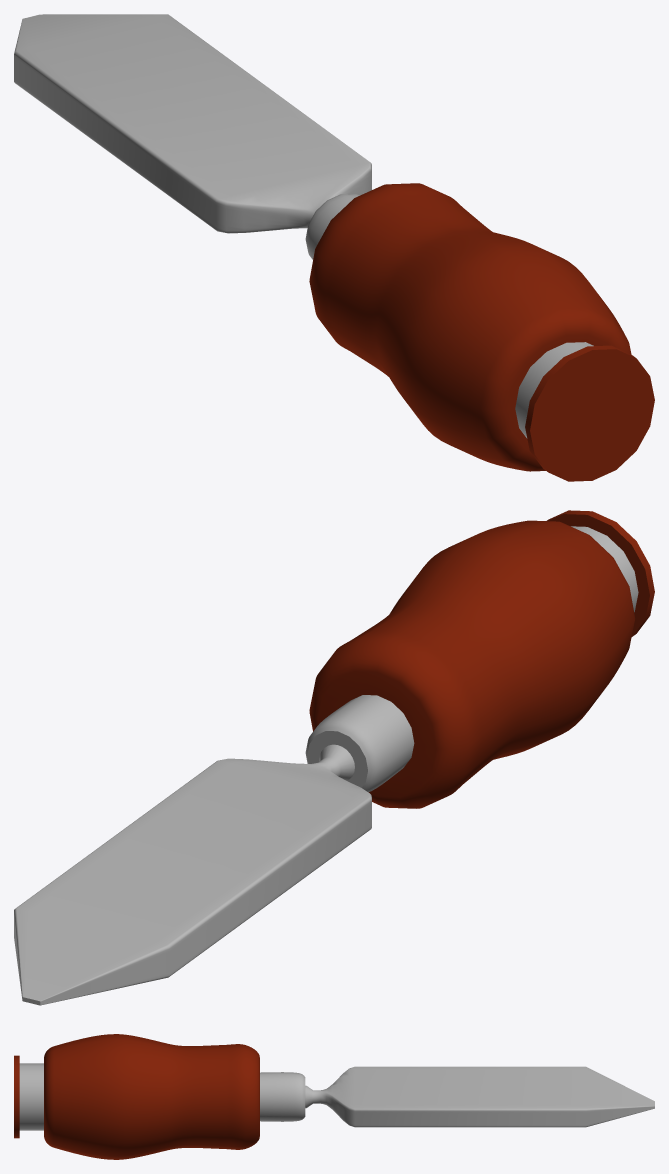
File: SharpTool.FBX
The picture shows the model from 3 angles, top to bottom: view 1: azimuth 30°, elevation 25°; view 2: azimuth 150°, elevation 25°; view 3: azimuth 270°, elevation 25°; orthographic projection. The views are drawn at different scales.
Visible parts, largest first — view 1: SharpTool; view 2: SharpTool; view 3: SharpTool.
Part boxes in pixels (bbox=[...]): SharpTool: bbox=[14, 14, 654, 481]; SharpTool: bbox=[14, 510, 654, 1005]; SharpTool: bbox=[14, 1034, 654, 1159].
Size of the model in its own units: 18.4 by 18.4 by 93.64.
